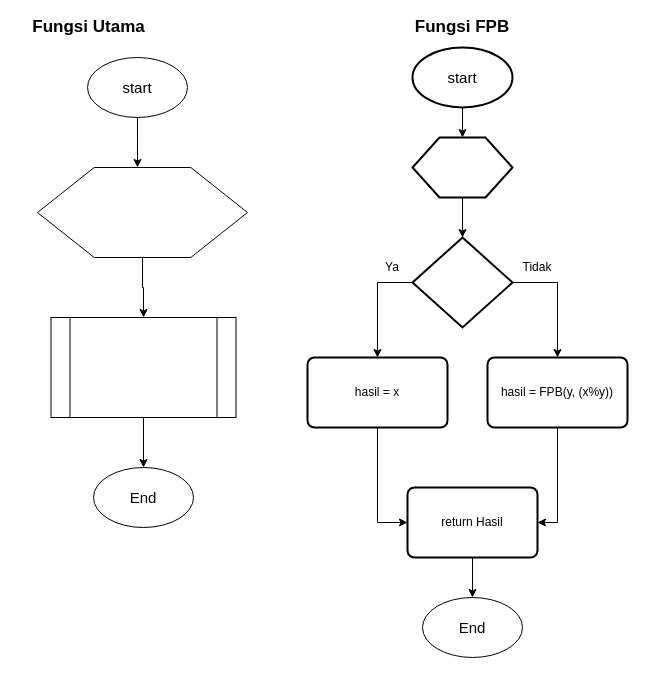
Image size: 645x675. Some labels were removed from this diagram. Here are the shapes that lost their labels. From the top down, the centre of each, then its label:
At (462,167): "hasil : float".
At (142,212): "bil1, bil2 : integer".
At (462,282): "y == 0".
At (143,367): "FPB(bil1, bil2)".
